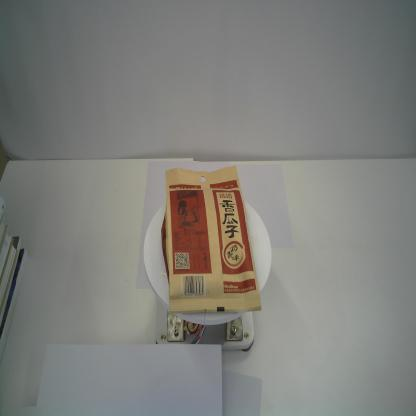Dried Food: (159, 162, 263, 317)
